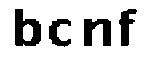b: (8, 4, 44, 52)
c: (45, 14, 72, 49)
f: (118, 5, 143, 48)
n: (80, 17, 114, 52)
